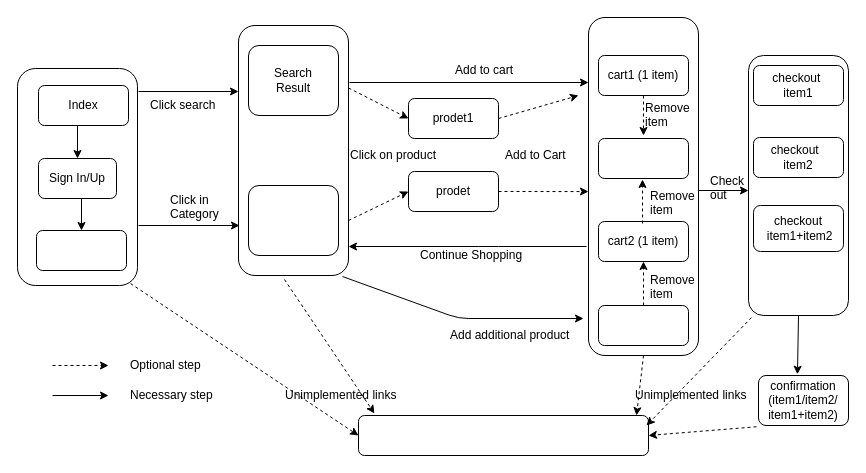
This 866x473 diagram has some shape labels left out. The shapes that lost their labels are listed below. From the top down, each one's box as (x1, y1, x2, y2) in pixels, then its label:
(598, 138, 688, 178): Empty cart
(248, 184, 338, 256): Category
(36, 230, 126, 270): Index after signing in
(598, 304, 688, 346): cart (2 items)
(358, 414, 648, 456): Under construction
